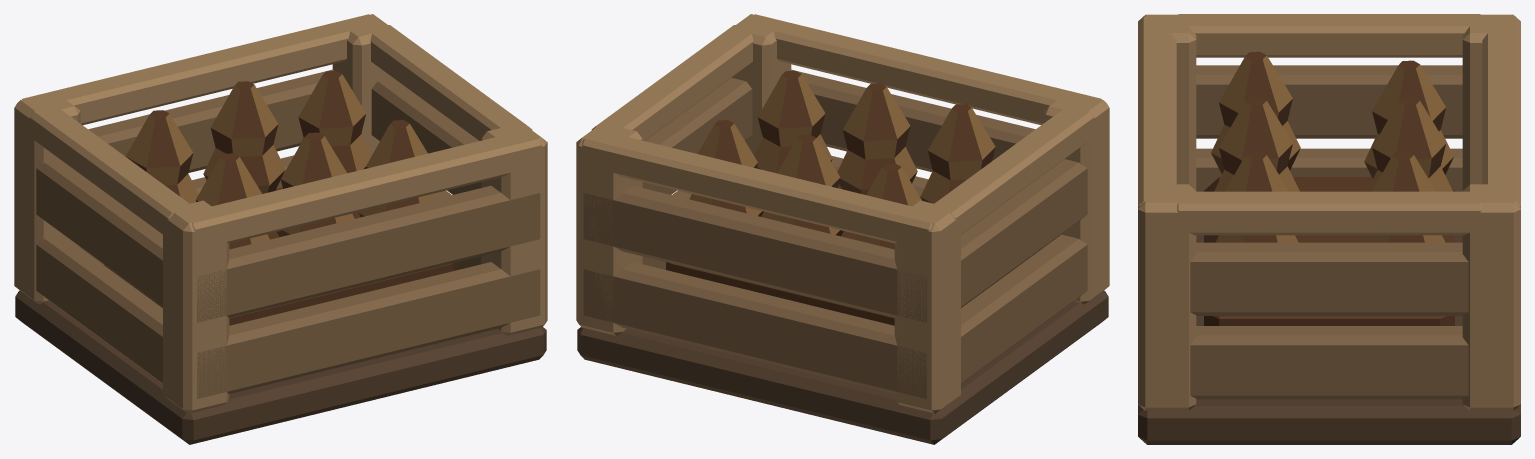
The model's file is pine_cone_half.glb.
3 renders of one model, left to right at view 1: azimuth 30°, elevation 25°; view 2: azimuth 150°, elevation 25°; view 3: azimuth 270°, elevation 25°, orthographic. The views are drawn at different scales.
Parts seen in each view (by area): view 1: pine_cone_half; view 2: pine_cone_half; view 3: pine_cone_half.
Part boxes in pixels (x1,y1,x2,y2): pine_cone_half: (14,14,547,444); pine_cone_half: (576,14,1109,444); pine_cone_half: (1138,14,1520,444).
Bounding box in the file's own units: 0.75 × 0.451 × 0.625.
